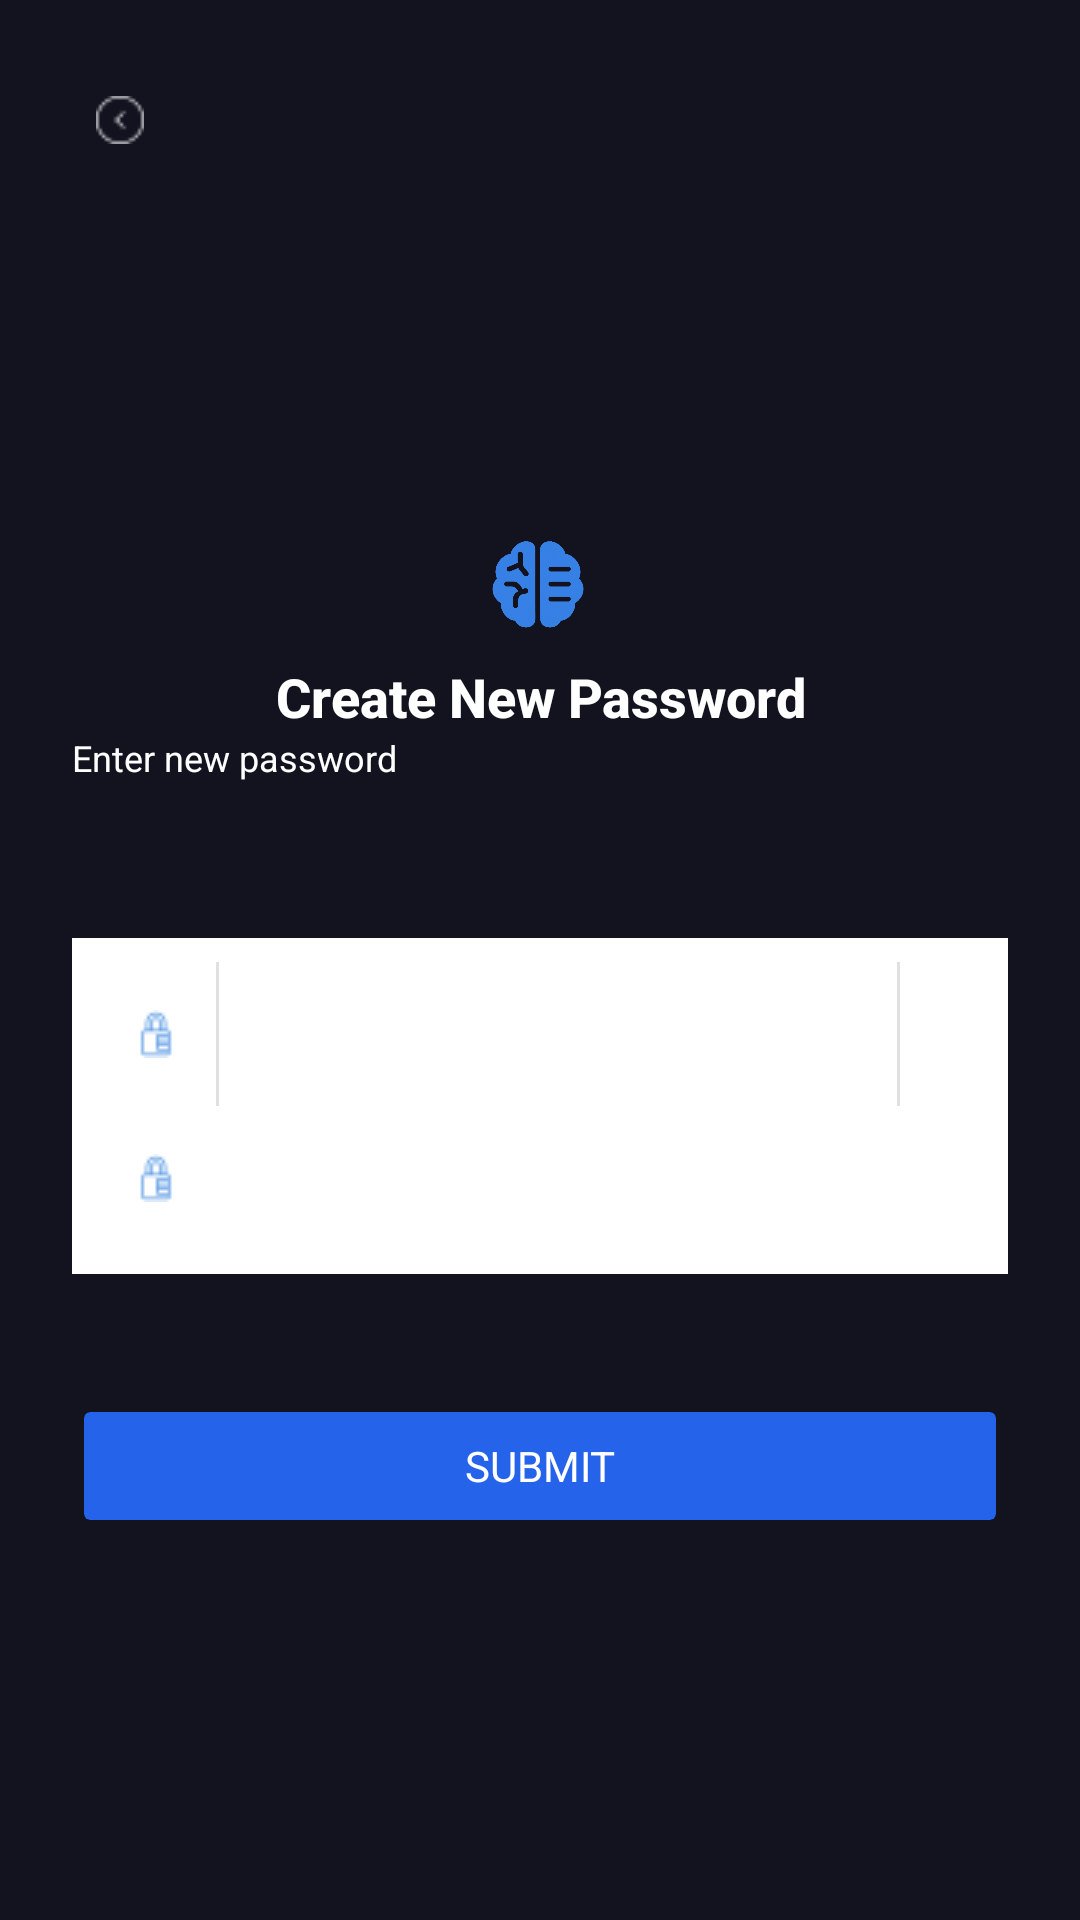

Icon bounding boxes for this 1080x1920 phone screenshot, format bbox=(x1, y1, x2, y2):
Back: bbox=(96, 96, 144, 144)
Lock icon: bbox=(140, 1012, 172, 1058), bbox=(140, 1156, 172, 1202)
